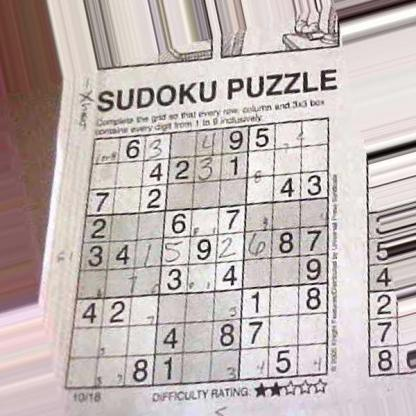sudoku: (62, 115, 336, 390)
